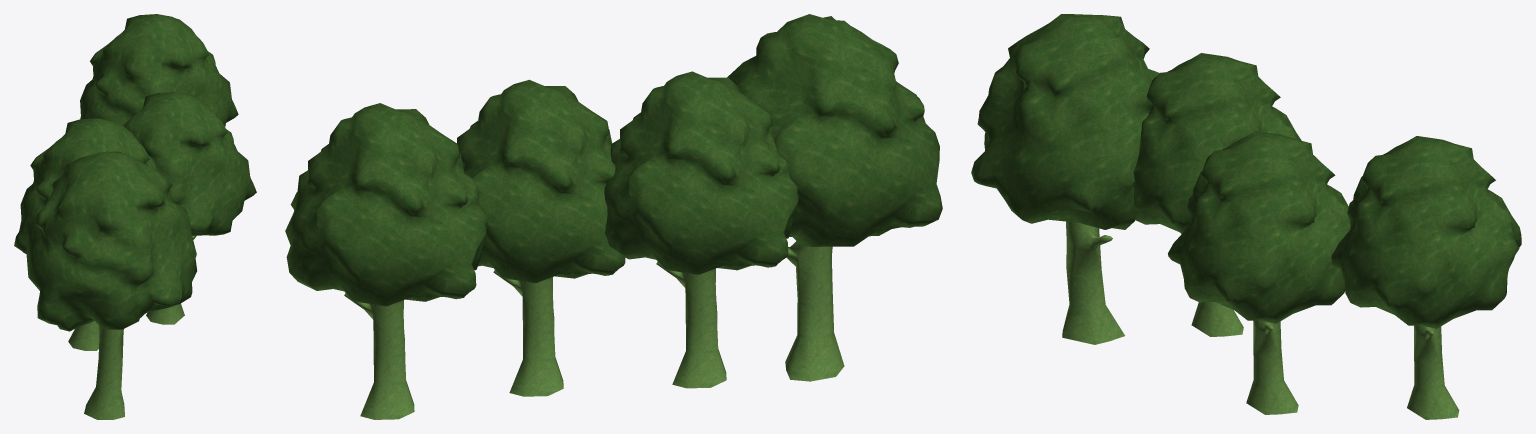
File: SM_ENV_KNFRST_DistanceTreeE_GroupB.FBX
3 views of the same model, side by side, from view 1: azimuth 30°, elevation 25°; view 2: azimuth 150°, elevation 25°; view 3: azimuth 270°, elevation 25° (orthographic). The views are drawn at different scales.
Visible parts, largest first — view 1: SM_ENV_KNFRST_DistanceTreeE_GroupB; view 2: SM_ENV_KNFRST_DistanceTreeE_GroupB; view 3: SM_ENV_KNFRST_DistanceTreeE_GroupB.
Part boxes in pixels (x1=…): SM_ENV_KNFRST_DistanceTreeE_GroupB: x1=14, y1=14, x2=256, y2=419; SM_ENV_KNFRST_DistanceTreeE_GroupB: x1=285, y1=14, x2=942, y2=419; SM_ENV_KNFRST_DistanceTreeE_GroupB: x1=971, y1=14, x2=1521, y2=419.
Bounding box in the file's own units: 13529 × 9914 × 15541.
